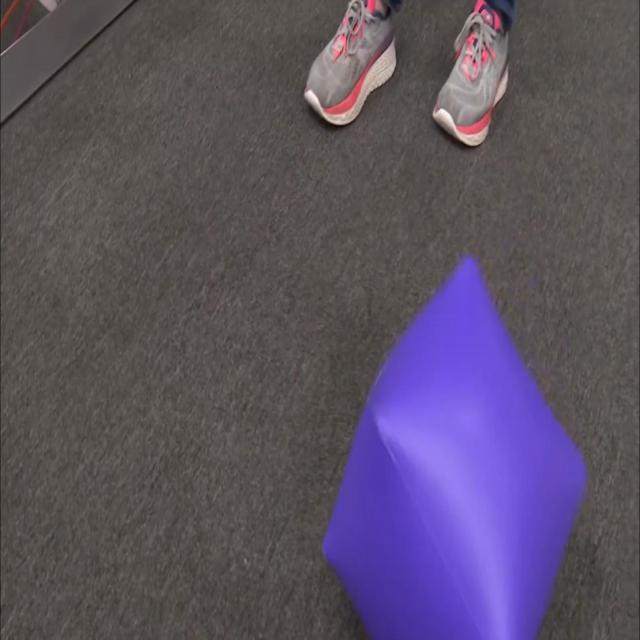frc_cube: (317, 212, 587, 640)
